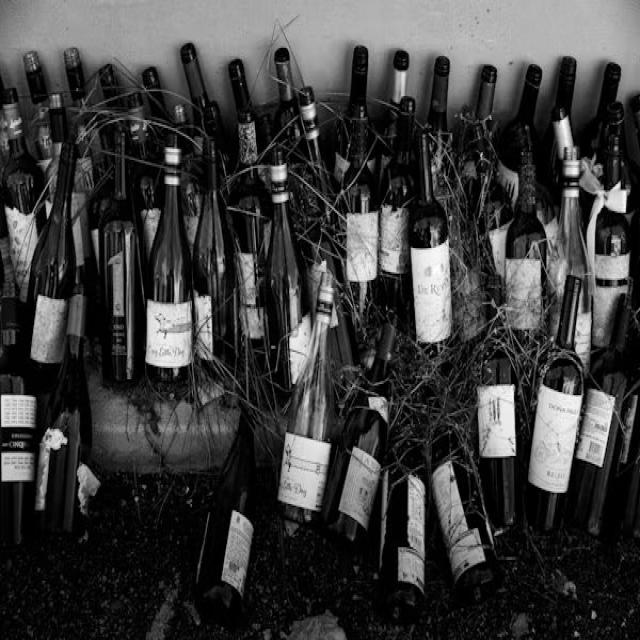Bottle: (299, 87, 356, 379), (565, 295, 632, 535), (323, 324, 395, 543), (525, 276, 583, 531), (278, 274, 334, 529), (35, 292, 91, 532), (195, 412, 255, 627), (431, 426, 501, 603), (27, 143, 77, 390), (146, 133, 193, 382), (100, 124, 145, 383), (265, 146, 311, 390), (228, 111, 271, 359), (477, 276, 519, 527), (340, 47, 378, 321), (192, 136, 237, 366), (548, 148, 593, 372), (450, 120, 494, 343), (409, 130, 452, 345), (377, 96, 417, 326), (587, 135, 630, 348), (3, 88, 45, 302), (378, 450, 427, 623), (464, 122, 513, 281), (505, 151, 547, 331), (295, 87, 337, 259), (89, 64, 123, 267), (0, 373, 37, 547), (498, 64, 541, 204), (128, 92, 163, 262), (333, 45, 375, 185), (538, 56, 577, 201), (606, 373, 639, 539), (181, 44, 227, 163), (63, 47, 100, 191), (72, 146, 99, 335), (456, 64, 497, 180), (173, 103, 202, 251), (605, 101, 639, 223), (579, 63, 620, 161), (94, 64, 123, 199), (378, 50, 409, 172), (0, 207, 22, 372), (427, 56, 452, 199), (540, 108, 573, 211), (24, 52, 52, 172), (142, 66, 171, 167), (44, 93, 69, 201), (274, 47, 302, 143), (228, 58, 257, 131), (427, 56, 450, 139), (474, 64, 497, 139), (142, 66, 170, 123), (63, 47, 87, 110), (256, 112, 275, 190), (229, 58, 252, 115), (99, 64, 124, 110), (256, 112, 274, 158), (0, 104, 9, 180), (630, 215, 639, 283), (203, 103, 219, 140)
